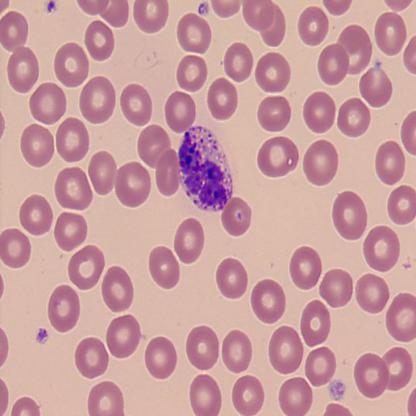Basophil: (173, 121, 237, 215)
